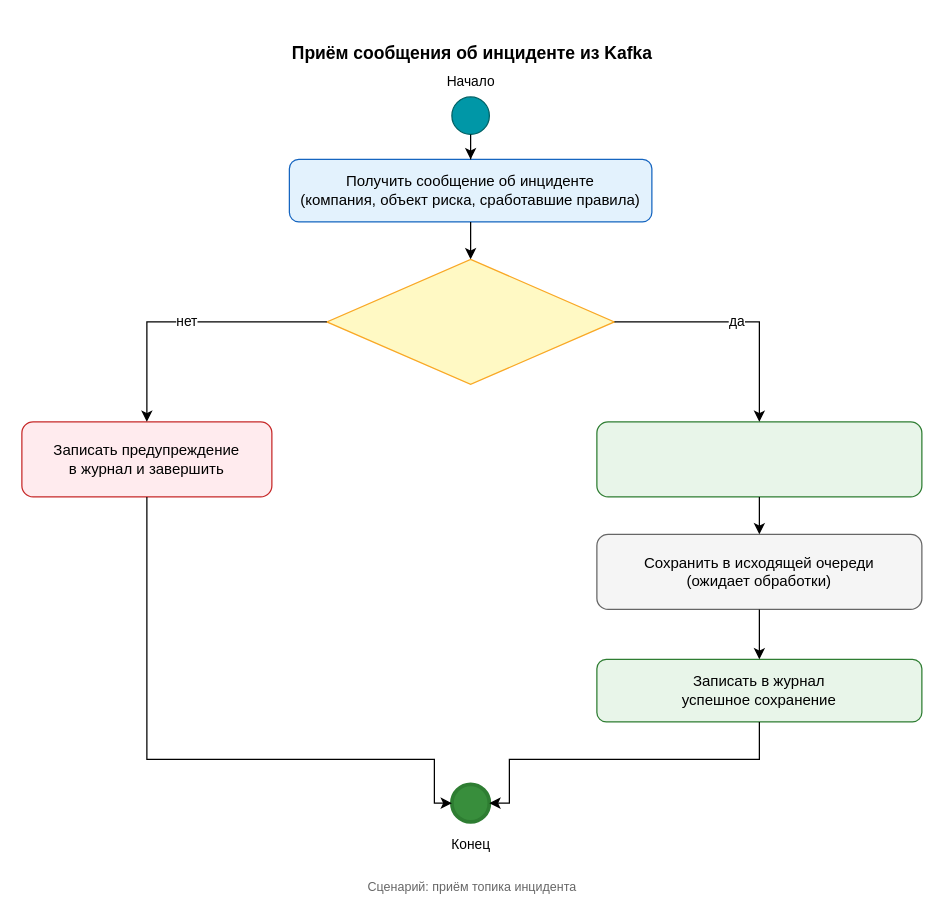
Image size: 944x923. Some labels were removed from this diagram. The shapes that lost their labels are listed below. From the top down, each one's centre as x and y in pixels, then its label:
At (470,321): "Сообщение корректно?".
At (759,459): "Подготовить данные для исходящей очереди".
